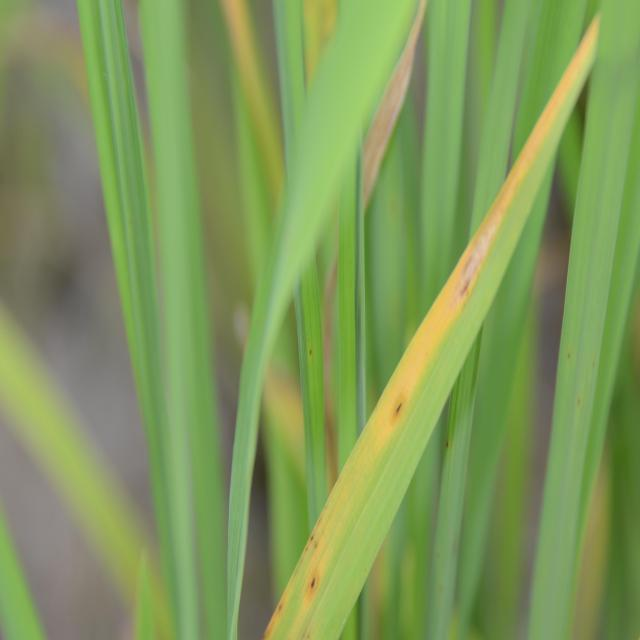Rice Tungro: (267, 62, 587, 640)
